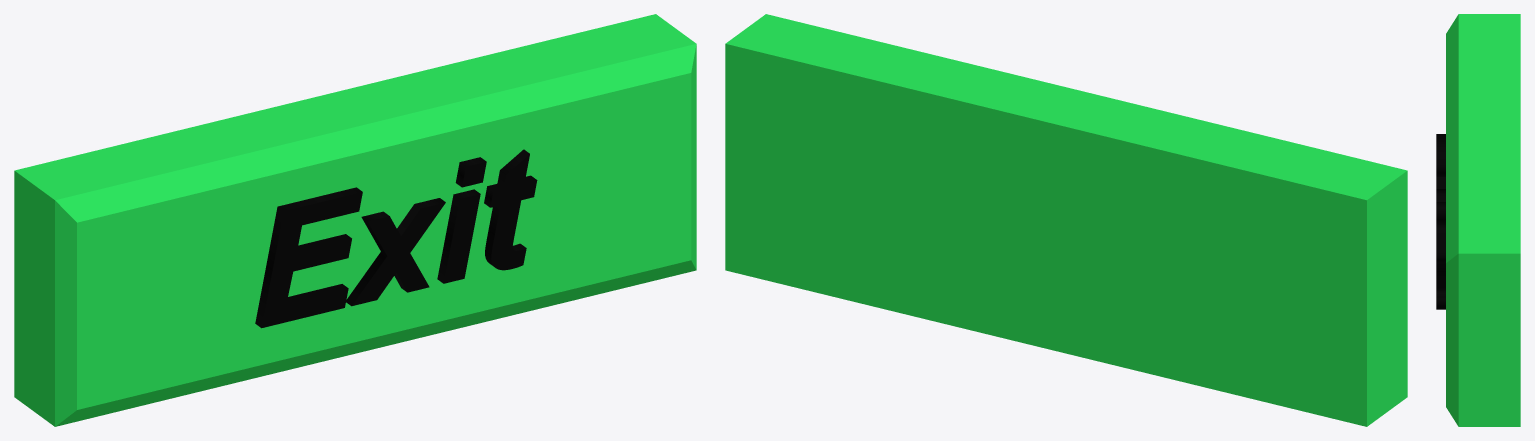
File: Exit_button.fbx
3 views of the same model, side by side, from view 1: azimuth 30°, elevation 25°; view 2: azimuth 150°, elevation 25°; view 3: azimuth 270°, elevation 25° (orthographic). The views are drawn at different scales.
Parts seen in each view (by area): view 1: Exit_button; view 2: Exit_button; view 3: Exit_button.
Boxes of the visible parts, x1,y1,x2,y2 form: Exit_button: (14, 14, 696, 426); Exit_button: (725, 14, 1407, 426); Exit_button: (1436, 14, 1520, 426).
Bounding box in the file's own units: 558 × 188 × 83.27.
